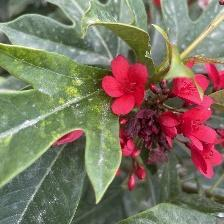jatropha: (104, 54, 151, 117)
